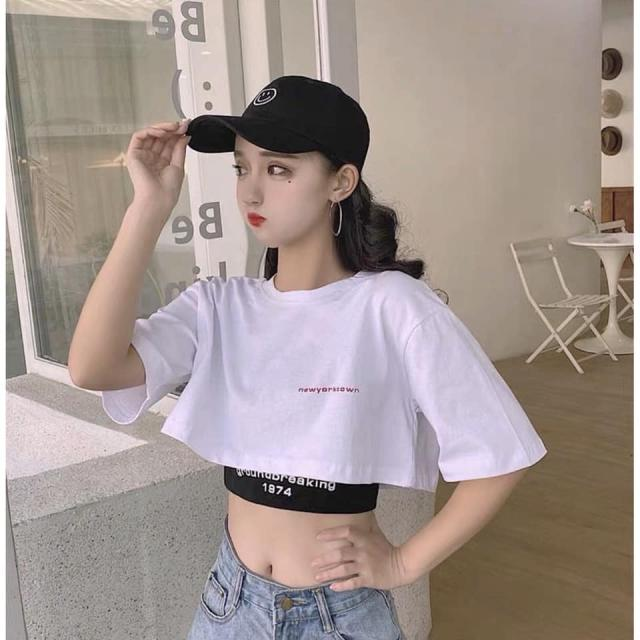clothes: (128, 258, 542, 640)
